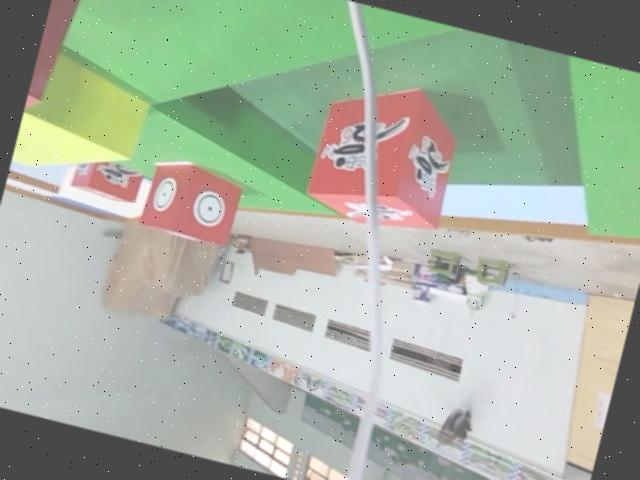R1: (298, 64, 472, 245), (66, 136, 148, 209)
R2 Real: (137, 154, 249, 253)
